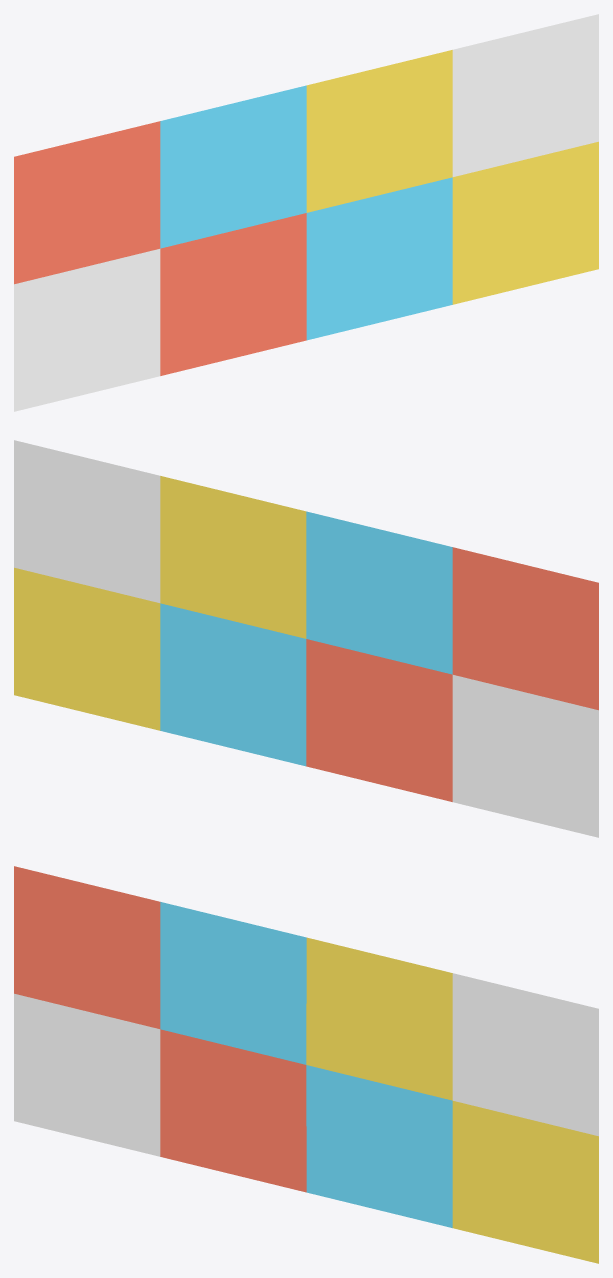
Rendered from background.gltf.
3 renders of one model, top to bottom at view 1: azimuth 30°, elevation 25°; view 2: azimuth 150°, elevation 25°; view 3: azimuth 330°, elevation 25°, orthographic.
Bounding box in the file's own units: 12 × 5 × 0.
